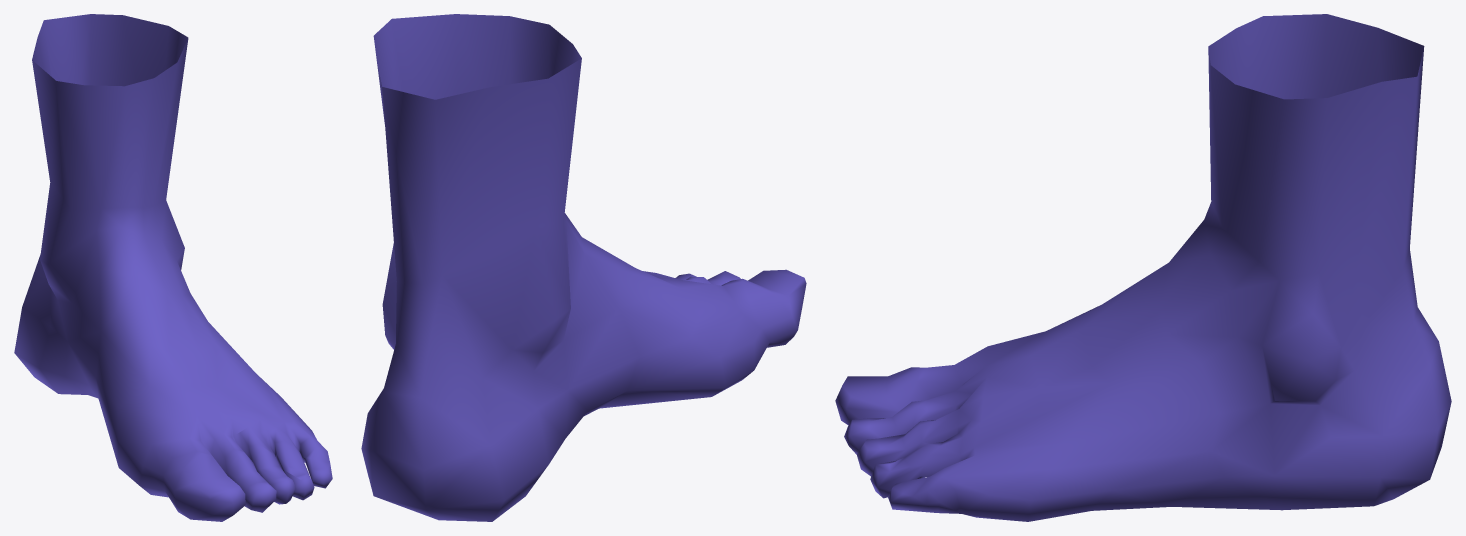
Rendered from human-foot-medres.glb.
3 views of the same model, side by side, from view 1: azimuth 30°, elevation 25°; view 2: azimuth 150°, elevation 25°; view 3: azimuth 270°, elevation 25° (orthographic). The views are drawn at different scales.
Visible parts, largest first — view 1: Cube;medres; view 2: Cube;medres; view 3: Cube;medres.
Part boxes in pixels (x1,y1,x2,y2): Cube;medres: [14, 14, 332, 521]; Cube;medres: [361, 14, 806, 521]; Cube;medres: [835, 14, 1451, 521].
Bounding box in the file's own units: 0.4056 × 0.7493 × 0.9583.
